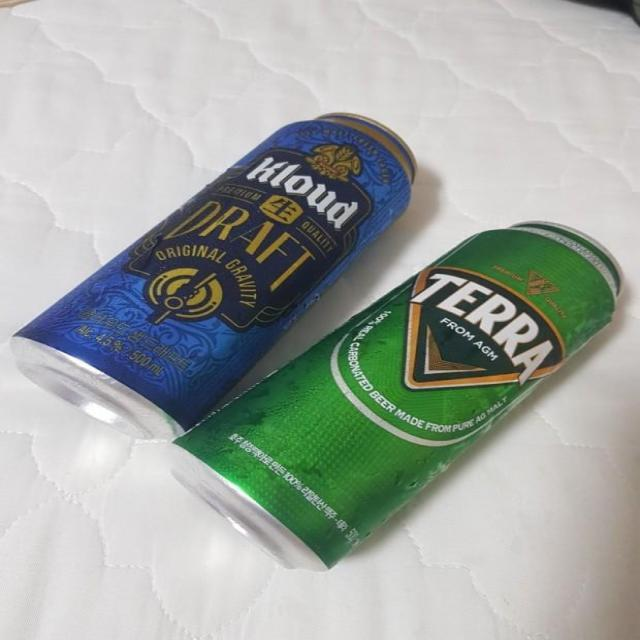beer-can: (174, 217, 629, 574), (8, 99, 438, 432)
